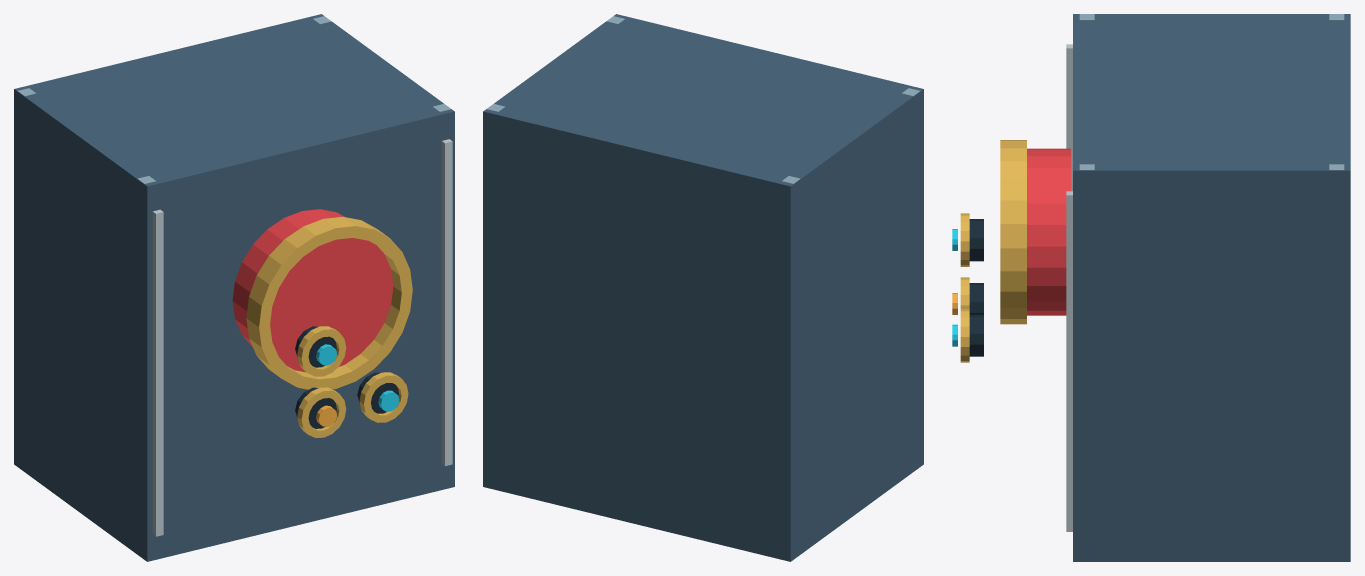
The model's file is 72_L83_EmergencyPowerIsolationStation.fbx.
The picture shows the model from 3 angles, left to right: view 1: azimuth 30°, elevation 25°; view 2: azimuth 150°, elevation 25°; view 3: azimuth 270°, elevation 25°; orthographic projection. The views are drawn at different scales.
Visible parts, largest first — view 1: EmergencyPowerIsolationStation; view 2: EmergencyPowerIsolationStation; view 3: EmergencyPowerIsolationStation.
Boxes of the visible parts, x1=… form: EmergencyPowerIsolationStation: x1=14, y1=14, x2=454, y2=561; EmergencyPowerIsolationStation: x1=483, y1=14, x2=923, y2=561; EmergencyPowerIsolationStation: x1=952, y1=14, x2=1350, y2=561.
Bounding box in the file's own units: 84 × 98.07 × 90.45.
